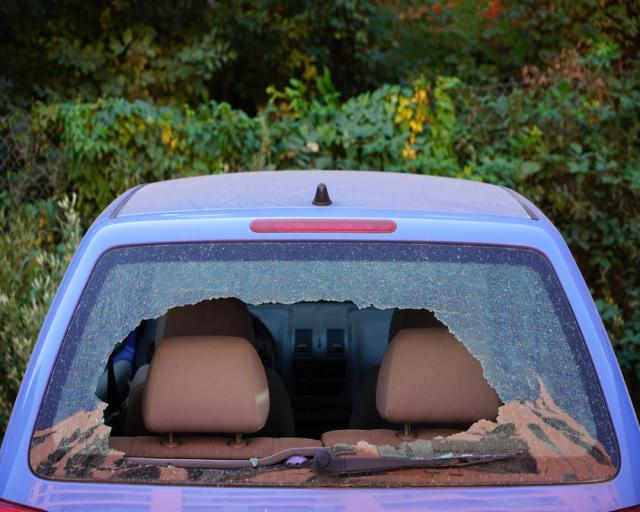glass shatter: (29, 241, 619, 487)
